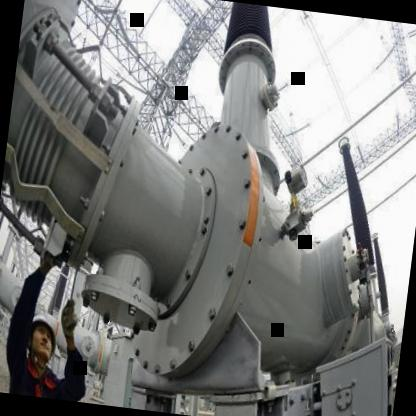helmet: (23, 301, 62, 371)
